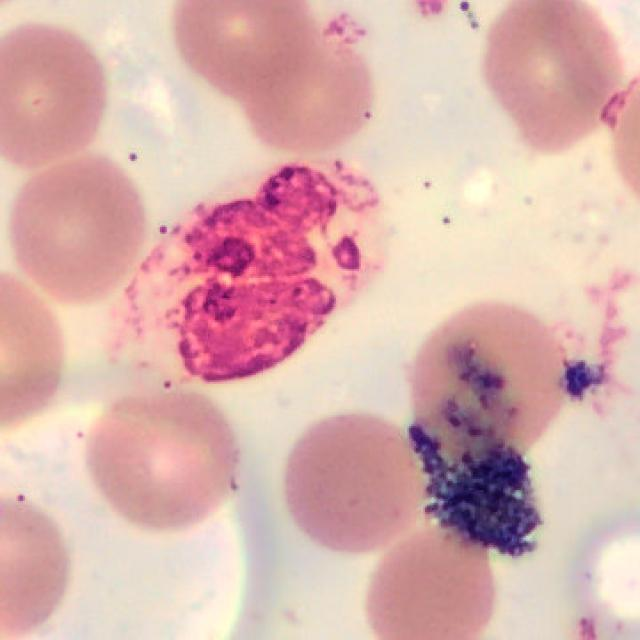Restos celulares: (107, 159, 389, 389)
